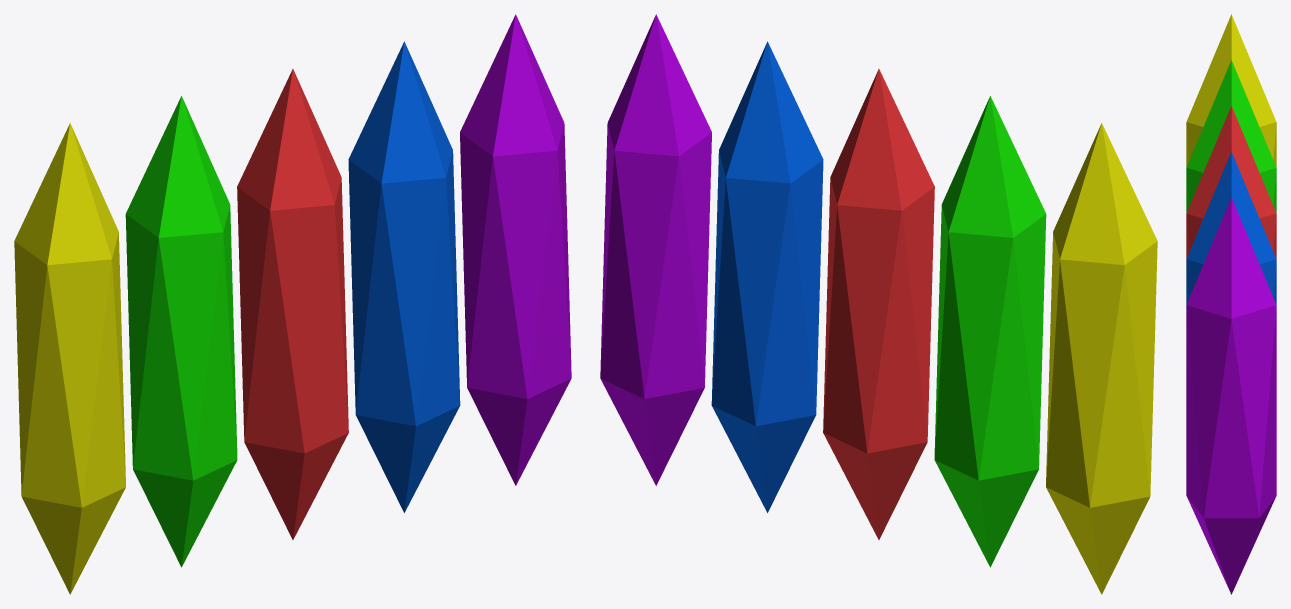
File: crystalls.fbx
3 renders of one model, left to right at view 1: azimuth 30°, elevation 25°; view 2: azimuth 150°, elevation 25°; view 3: azimuth 270°, elevation 25°, orthographic. The views are drawn at different scales.
Visible parts, largest first — view 1: Icosphere.001, Icosphere.002, Icosphere.003, Icosphere, Icosphere.004; view 2: Icosphere.001, Icosphere.002, Icosphere.003, Icosphere, Icosphere.004; view 3: Icosphere.003, Icosphere, Icosphere.001, Icosphere.002, Icosphere.004.
Part boxes in pixels (x1=…): Icosphere.001: x1=125, y1=96, x2=237, y2=567; Icosphere.002: x1=348, y1=41, x2=460, y2=512; Icosphere.003: x1=460, y1=14, x2=571, y2=485; Icosphere: x1=237, y1=69, x2=348, y2=539; Icosphere.004: x1=14, y1=123, x2=125, y2=594; Icosphere.001: x1=934, y1=96, x2=1046, y2=567; Icosphere.002: x1=711, y1=41, x2=823, y2=512; Icosphere.003: x1=600, y1=14, x2=711, y2=485; Icosphere: x1=823, y1=69, x2=934, y2=539; Icosphere.004: x1=1046, y1=123, x2=1157, y2=594; Icosphere.003: x1=1186, y1=197, x2=1276, y2=594; Icosphere: x1=1186, y1=106, x2=1276, y2=258; Icosphere.001: x1=1186, y1=60, x2=1276, y2=212; Icosphere.002: x1=1186, y1=151, x2=1276, y2=304; Icosphere.004: x1=1186, y1=14, x2=1276, y2=167.
Bounding box in the file's own units: 1706 × 1418 × 291.
